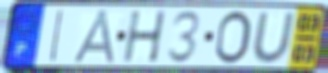3: (166, 9, 202, 64)
A: (70, 8, 119, 65)
H: (122, 9, 168, 64)
I: (47, 9, 66, 65)
O: (212, 9, 253, 65)
U: (250, 11, 297, 65)
